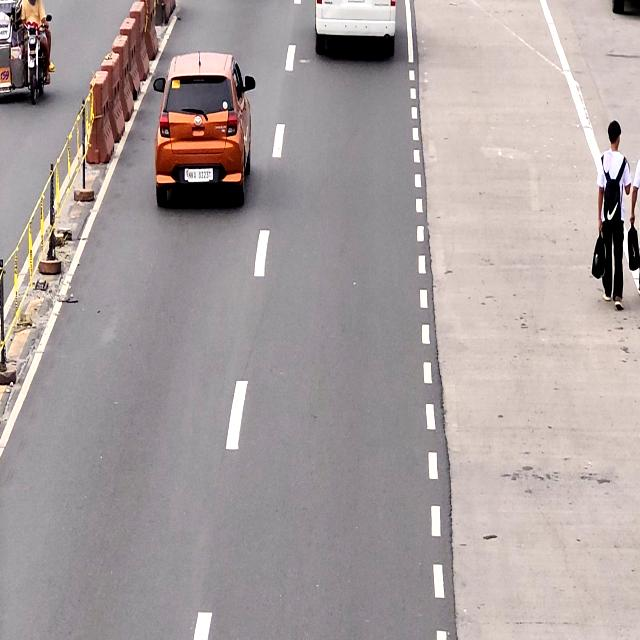Car: (153, 54, 246, 208), (314, 0, 392, 58)
License-Plate: (181, 167, 214, 184)
